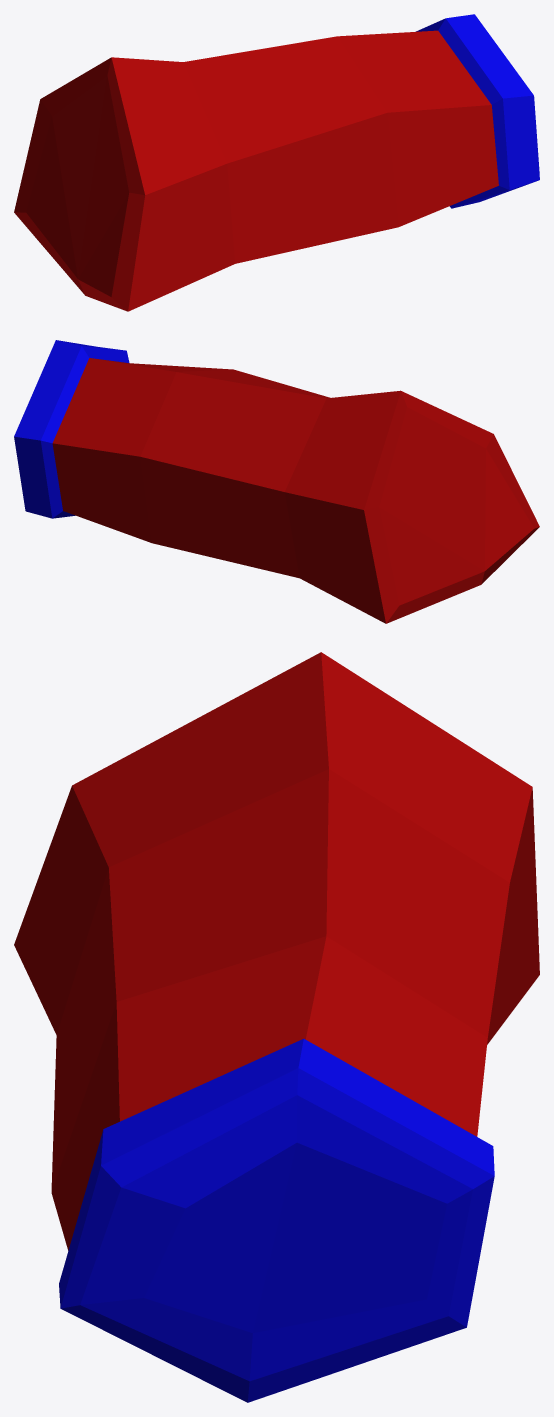
The model's file is Chr_ArmUpperLeft_Male_Static_18.fbx.
3 renders of one model, top to bottom at view 1: azimuth 30°, elevation 25°; view 2: azimuth 150°, elevation 25°; view 3: azimuth 270°, elevation 25°, orthographic. The views are drawn at different scales.
Parts seen in each view (by area): view 1: Chr_ArmUpperLeft_Male_18; view 2: Chr_ArmUpperLeft_Male_18; view 3: Chr_ArmUpperLeft_Male_18.
Boxes of the visible parts, x1,y1,x2,y2 form: Chr_ArmUpperLeft_Male_18: (14,14,539,311); Chr_ArmUpperLeft_Male_18: (14,340,539,623); Chr_ArmUpperLeft_Male_18: (14,652,539,1402).
Size of the model in its own units: 32.55 by 15.29 by 17.36.
